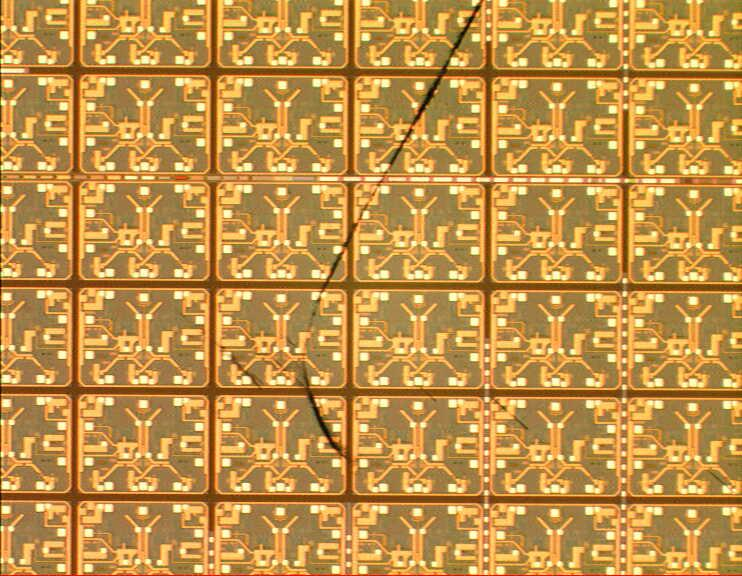SCRATCH: (292, 1, 490, 470)
